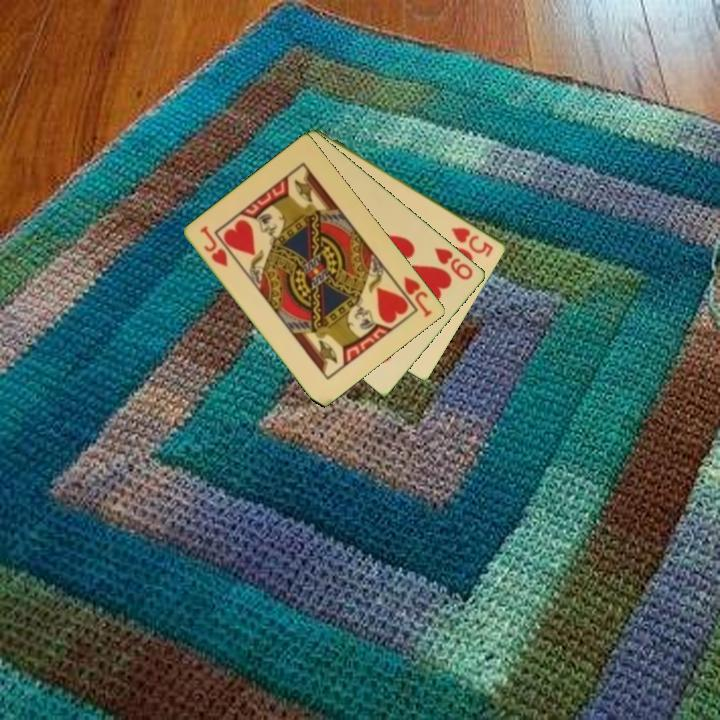5h: (448, 223, 497, 260)
9h: (431, 244, 476, 283)
Jh: (391, 273, 435, 320), (197, 223, 231, 270)
